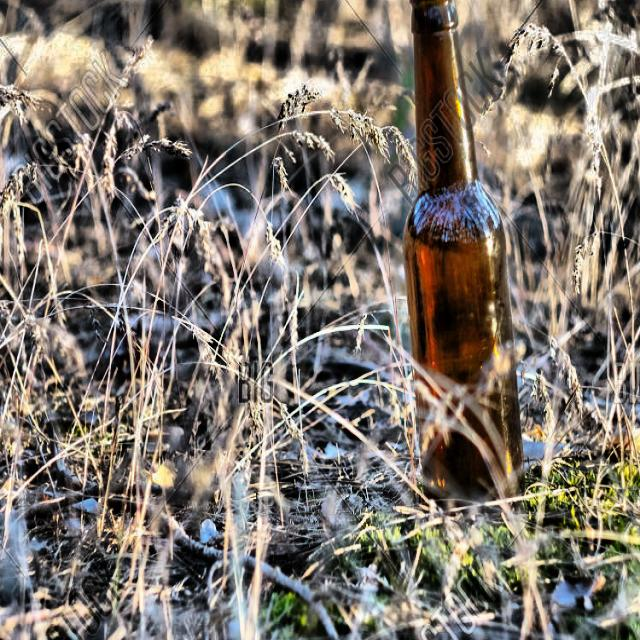glass: (394, 0, 527, 519)
